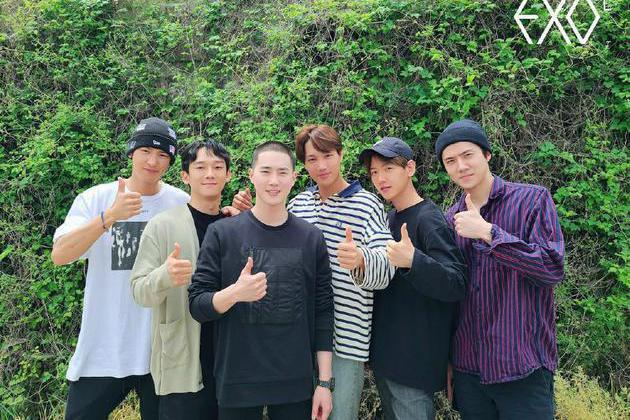people: (434, 121, 562, 420), (64, 118, 185, 420), (209, 142, 318, 420), (291, 125, 380, 420), (359, 137, 450, 420), (143, 140, 233, 420)
